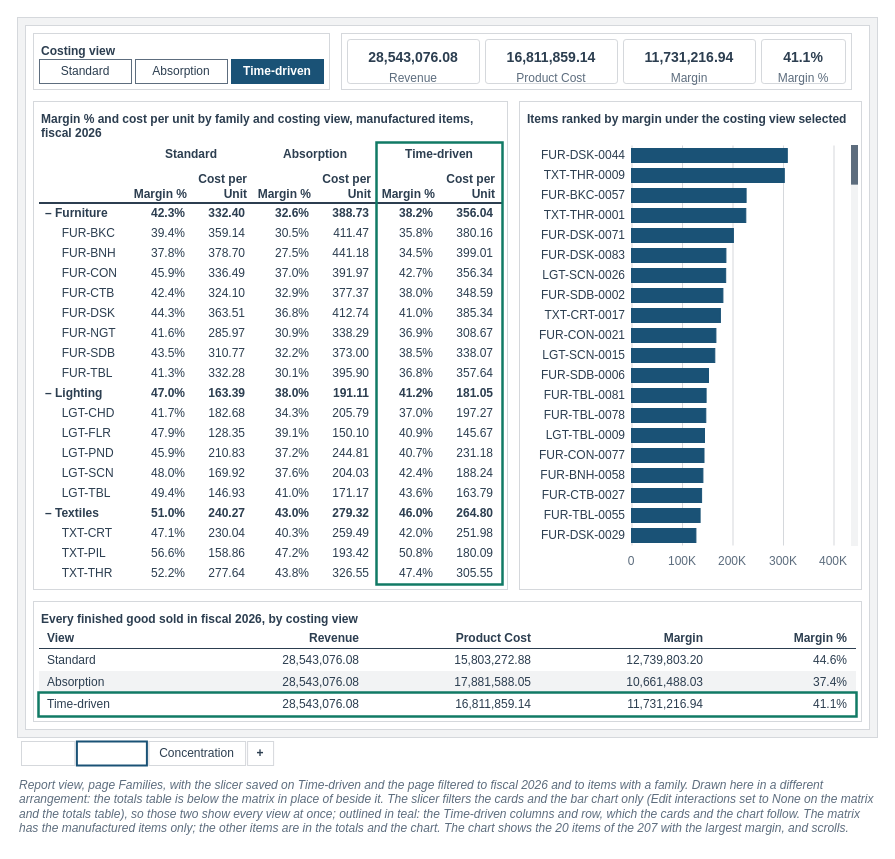
The diagram is 895 pixels wide and 859 high, and some of its shapes have lost their labels. Here are the shapes that lost their labels. From the top down, the box of each, then its label:
(20, 740, 75, 766): About
(75, 740, 147, 766): Families
